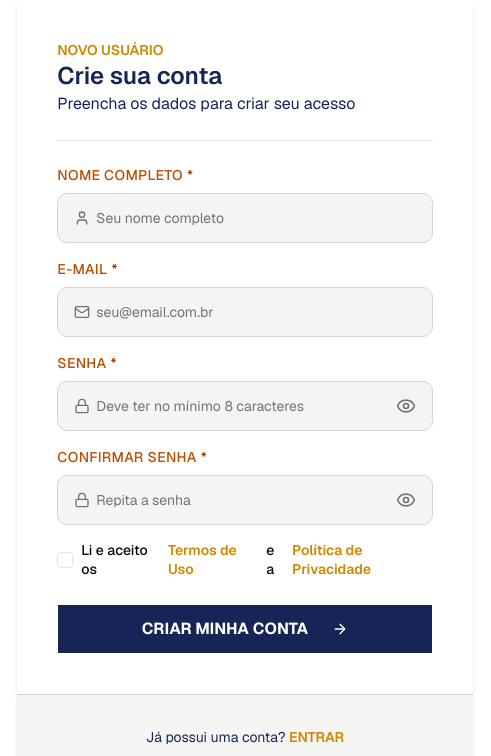
Test: SignUpForm › should display error message for invalid email
This screenshot has width=491, height=756.
Type "Test User" into the field labelled "Nome completo *".
click(257, 218); type("Test User")  # box [90,202,424,234]
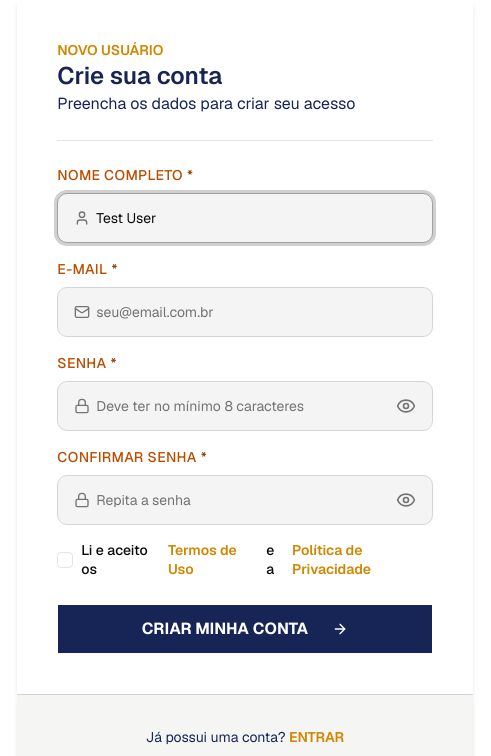
Type "test@test.com" into the field labelled "e-mail *".
click(257, 312); type("test@test.com")  # box [90,296,424,328]
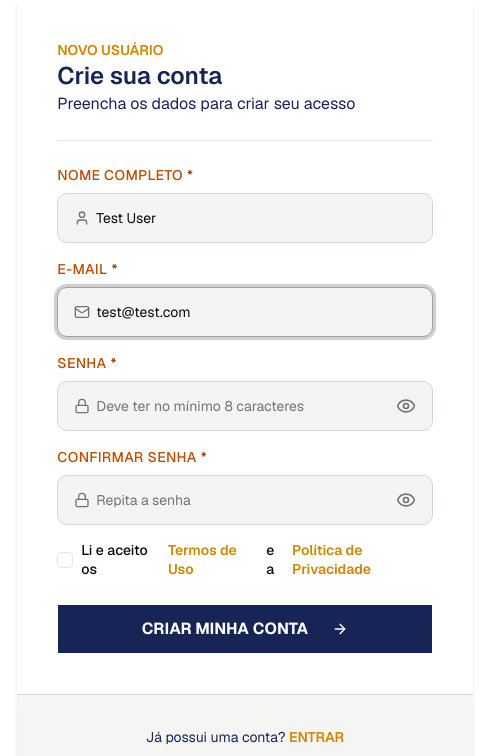
Type "testpassword123" into the password field labelled "senha *".
click(243, 406); type("testpassword123")  # box [90,390,396,422]
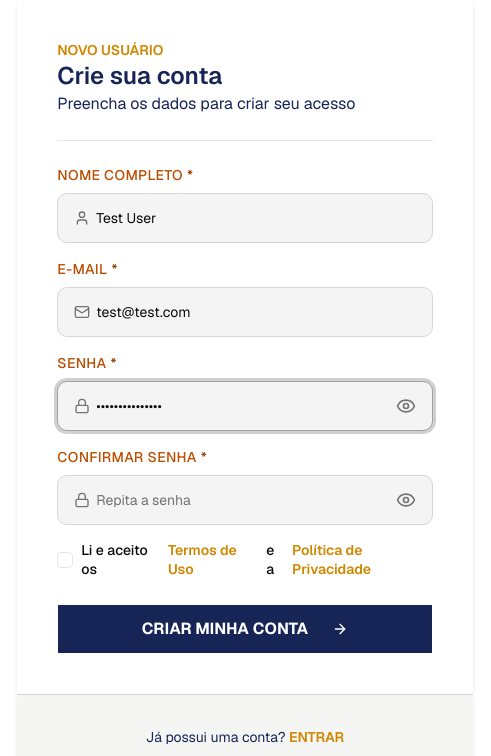
Type "testpassword123" into the password field labelled "confirmar senha *".
click(243, 500); type("testpassword123")  # box [90,484,396,516]
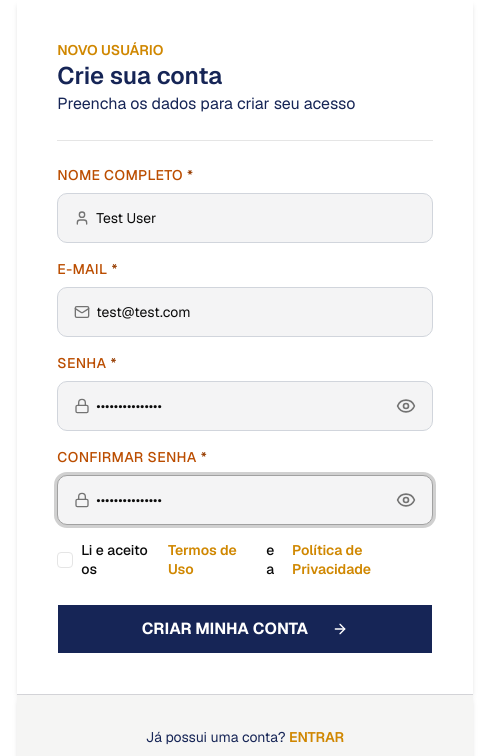
Click the checkbox.
click(65, 560)  # box [57,552,73,568]
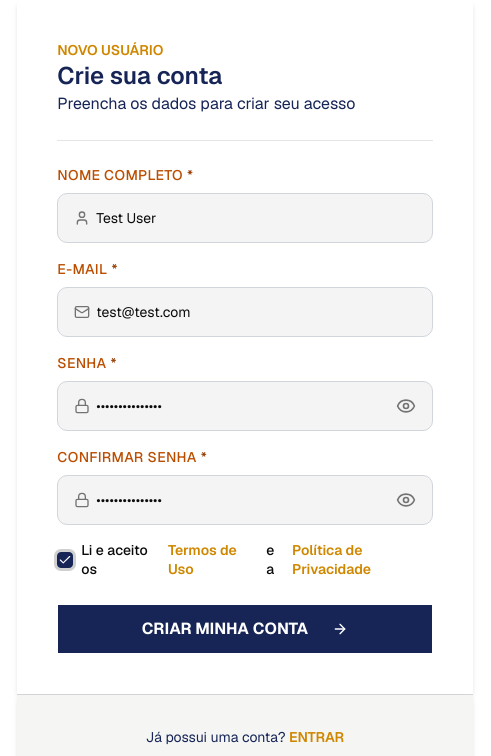
Click the button "criar minha conta".
click(245, 628)  # box [57,604,433,654]
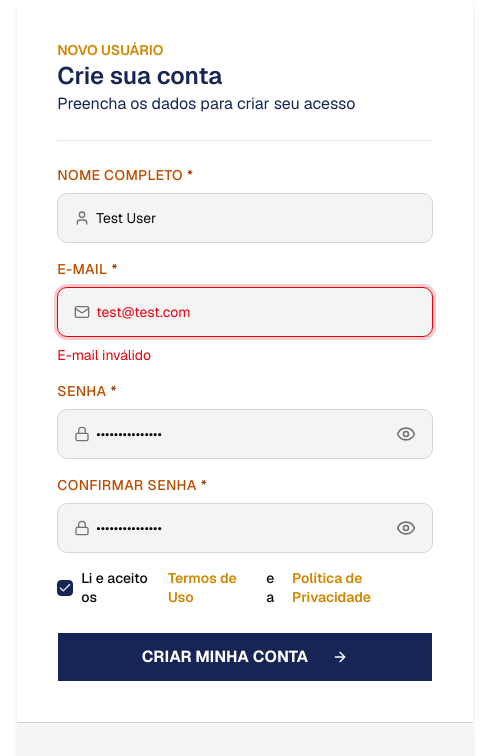
Check: the message reads "E-mail inválido", box [57,346,151,364]
